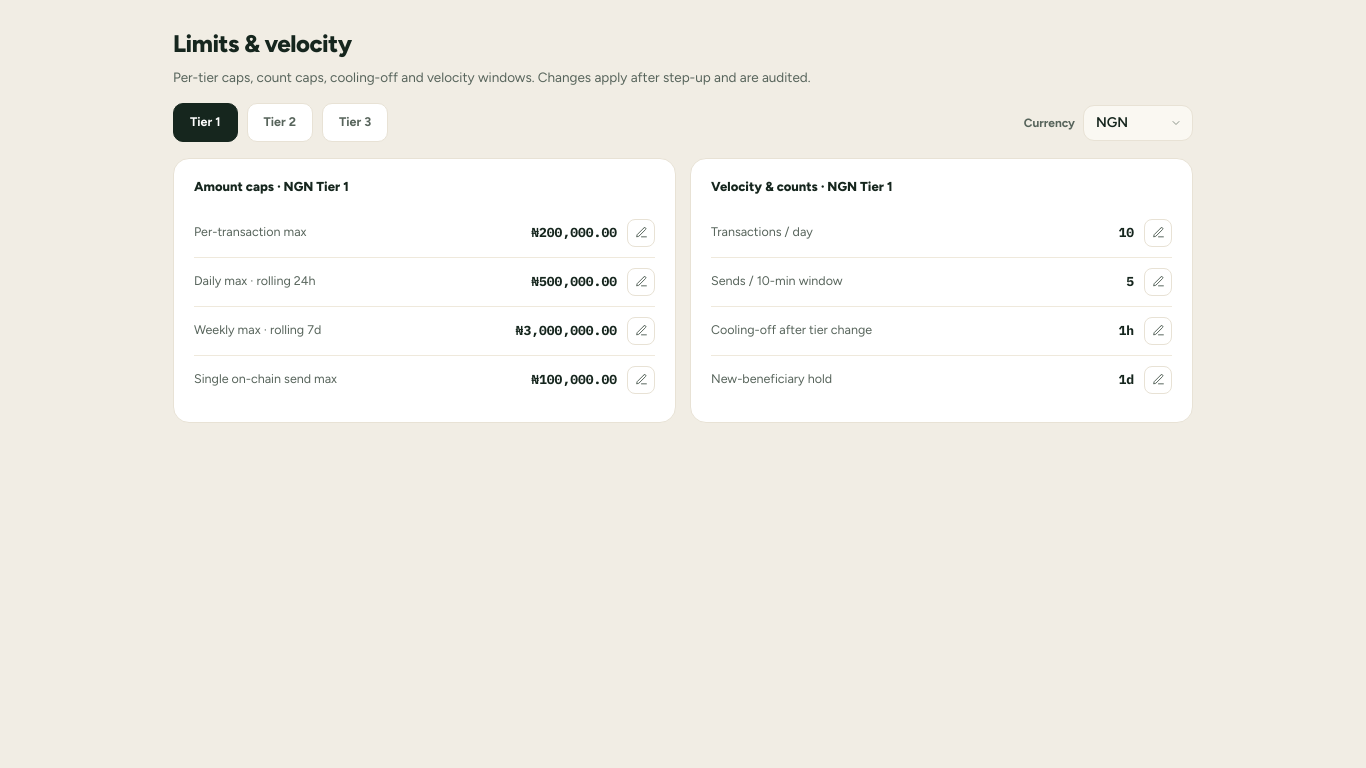
Test: LimitsPage (four-eyes tier_override) › opens the step-up dialog and retries the raise after re-auth when the server demands step-up
Click the button named "Edit Per-transaction max" at (641, 232), box x1=627 y1=218 x2=655 y2=246
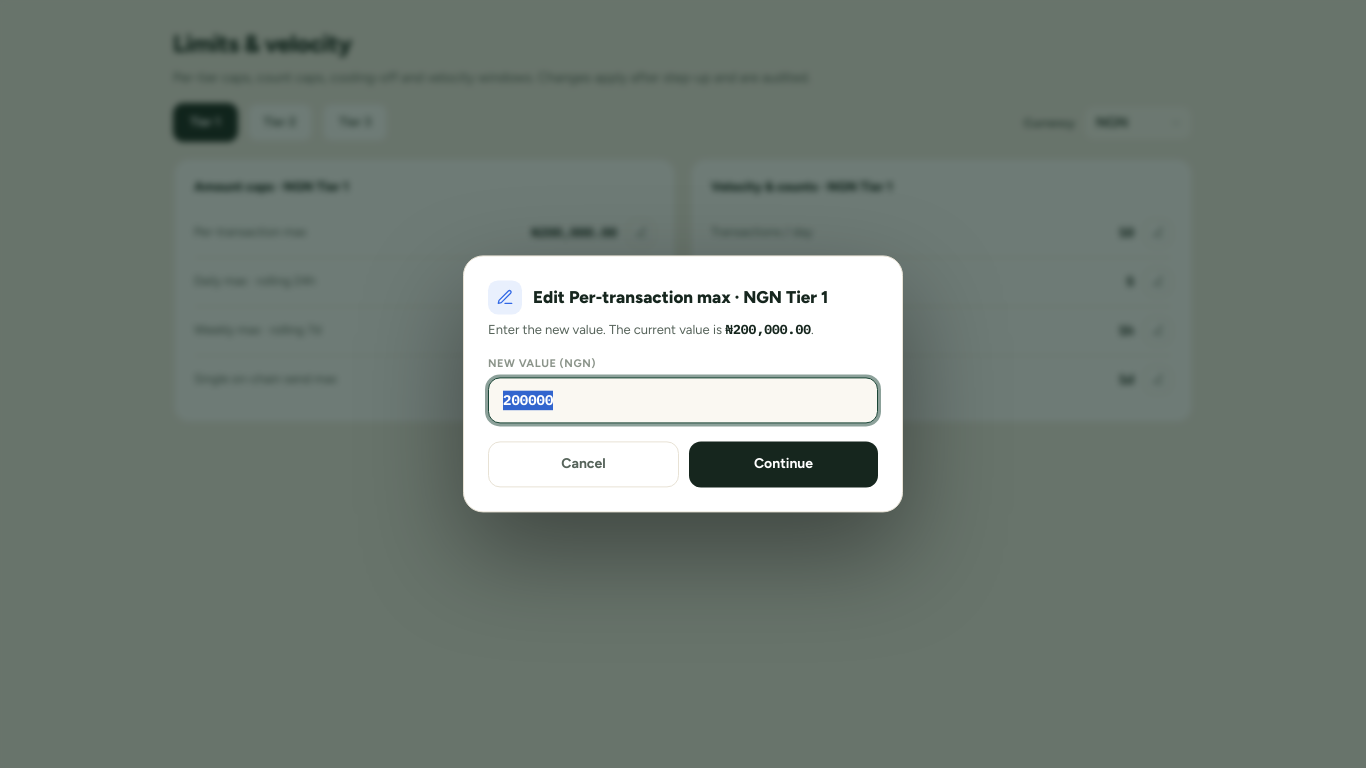
Replace the text in the field labelled "New value (NGN)" with "300000" at (683, 401), box x1=488 y1=378 x2=878 y2=424
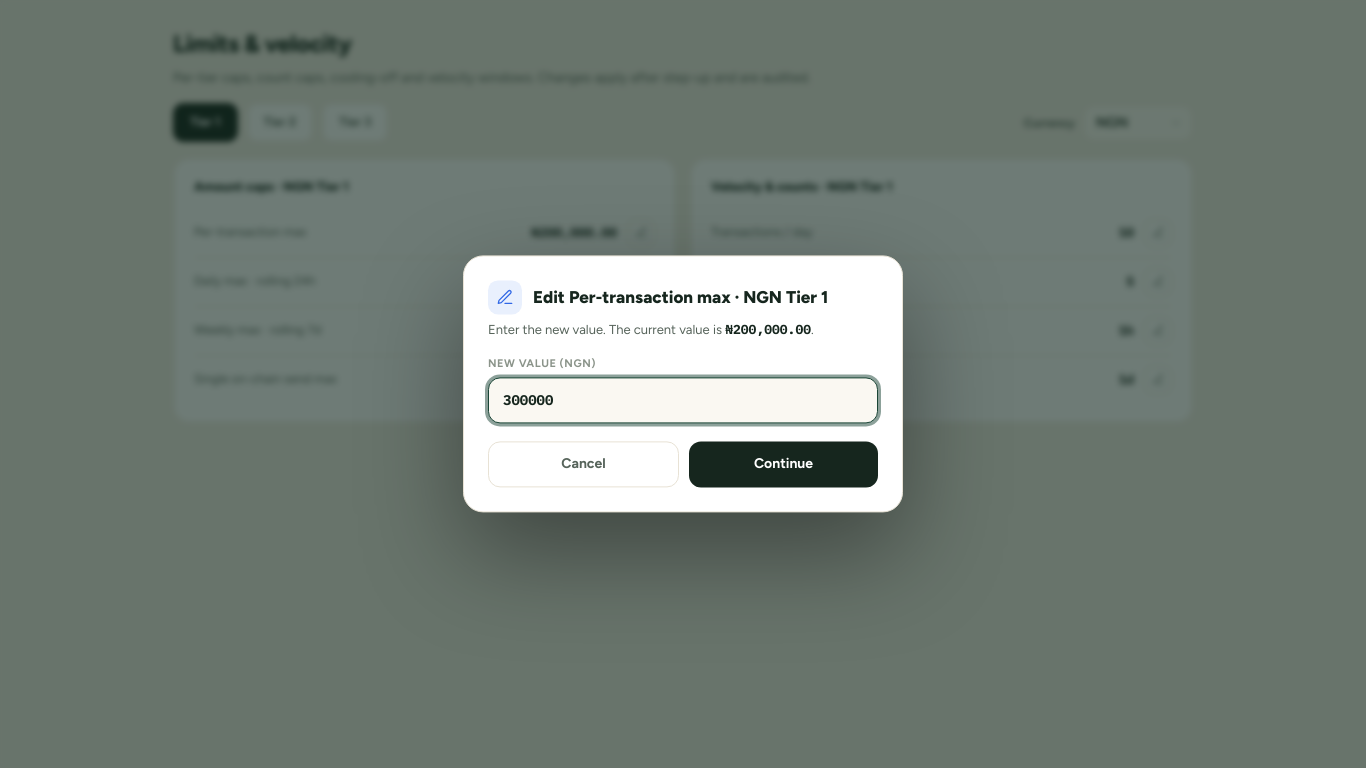
Click the button "Continue" at (784, 465), box x1=689 y1=442 x2=878 y2=488
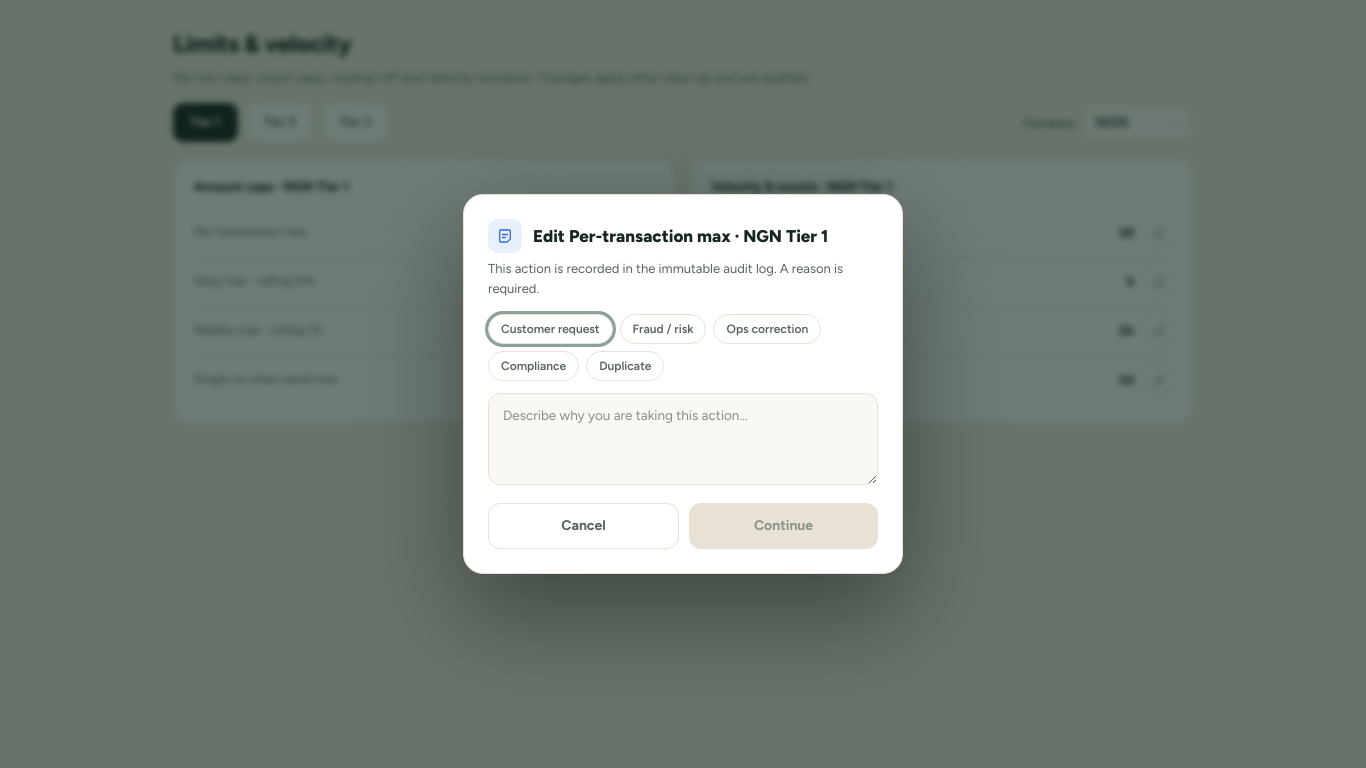
Type "Ops correction" into the text box named "Reason" at (683, 439), box x1=488 y1=393 x2=878 y2=485
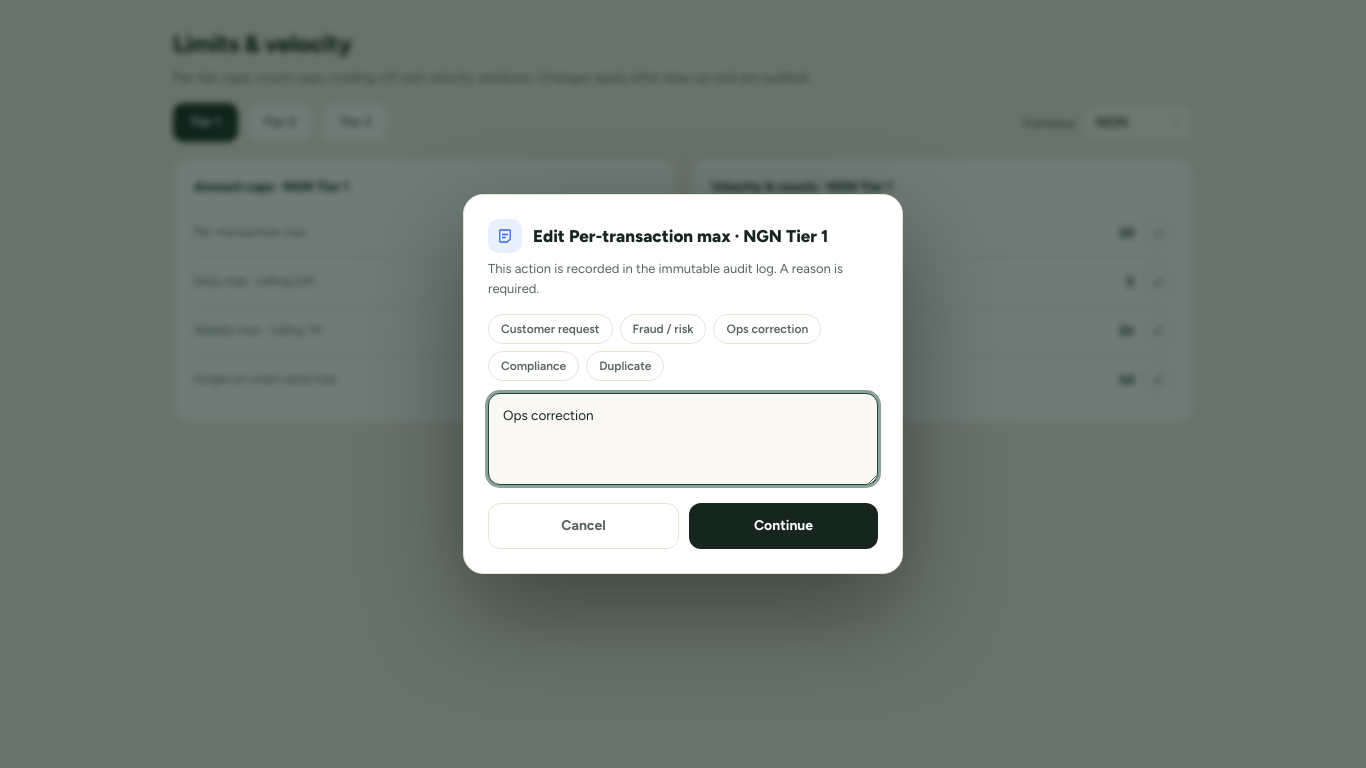
Click the button "Continue" at (784, 526), box x1=689 y1=503 x2=878 y2=549
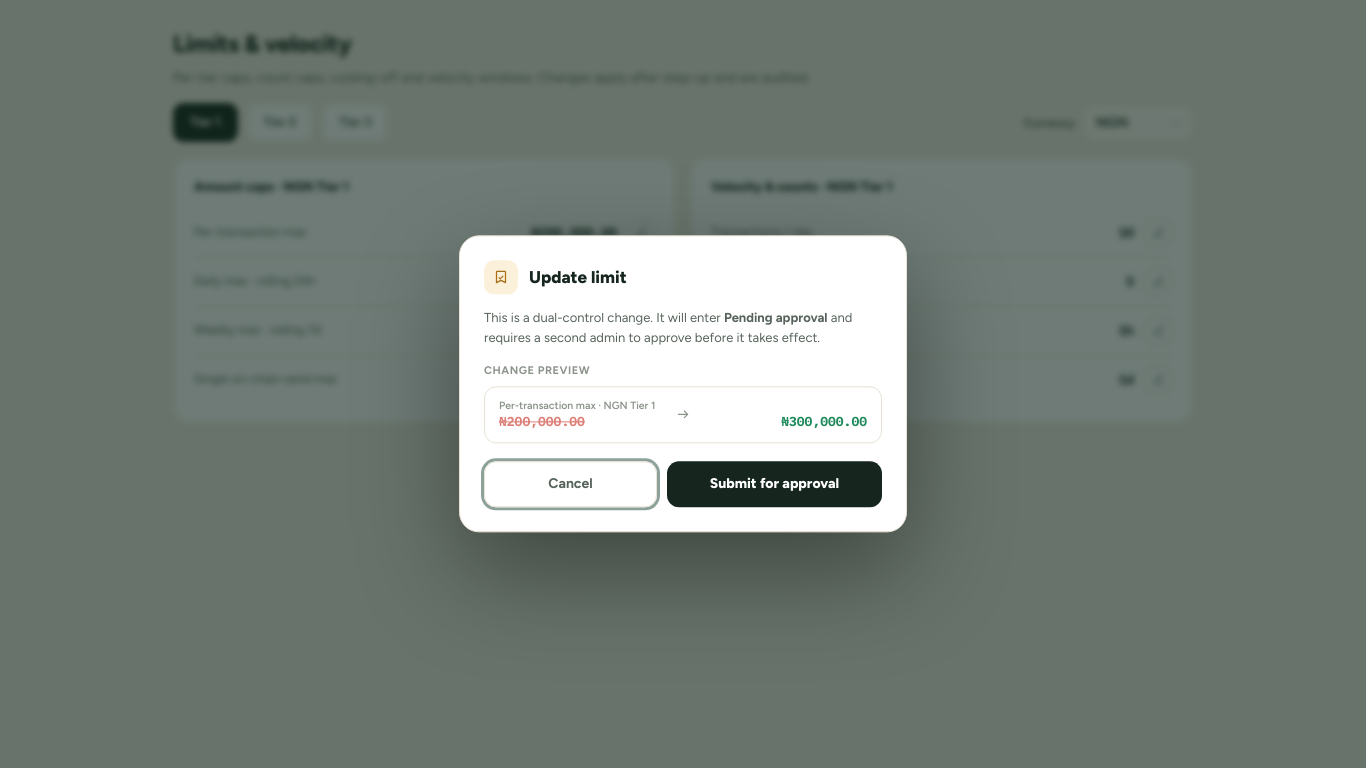
Click the button "Submit for approval" at (774, 485), box x1=667 y1=462 x2=882 y2=508
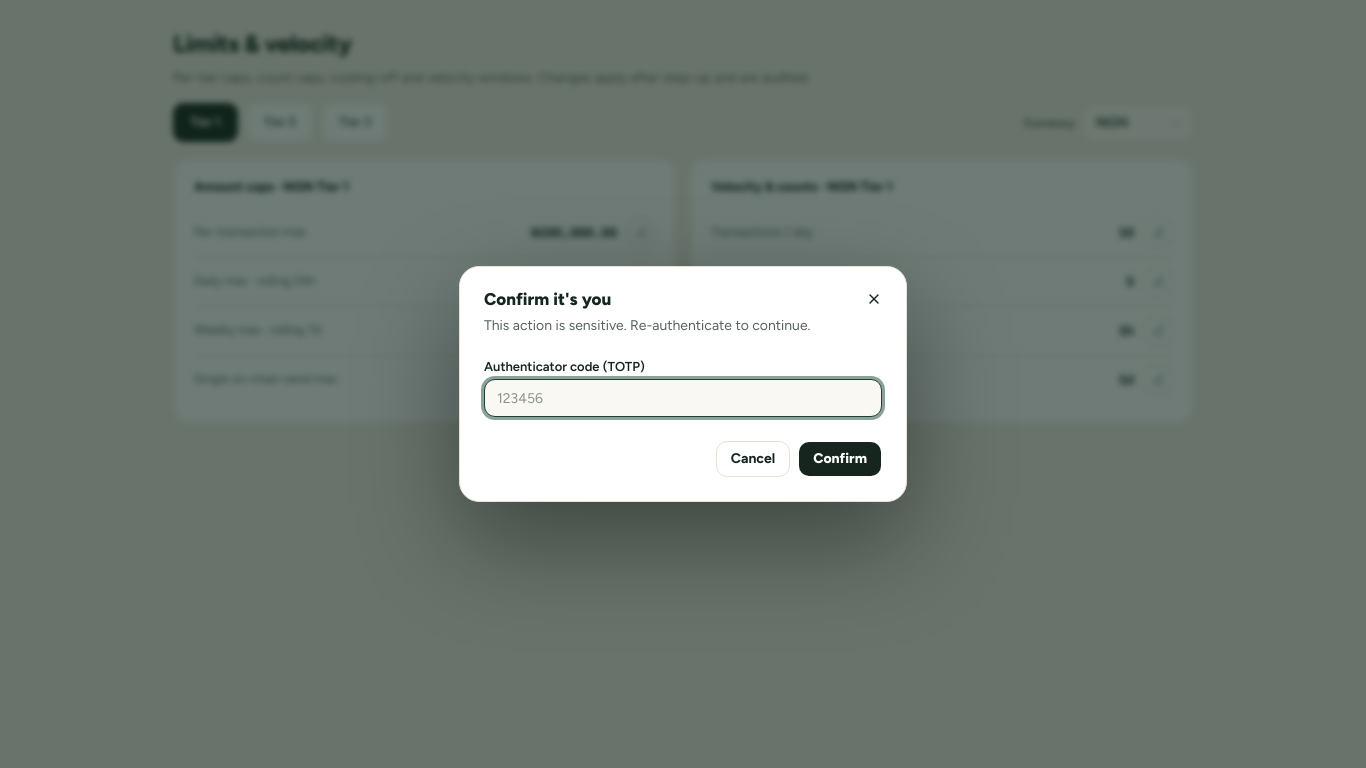
Now the heading "Confirm it's you" is shown, box x1=484 y1=289 x2=611 y2=309
